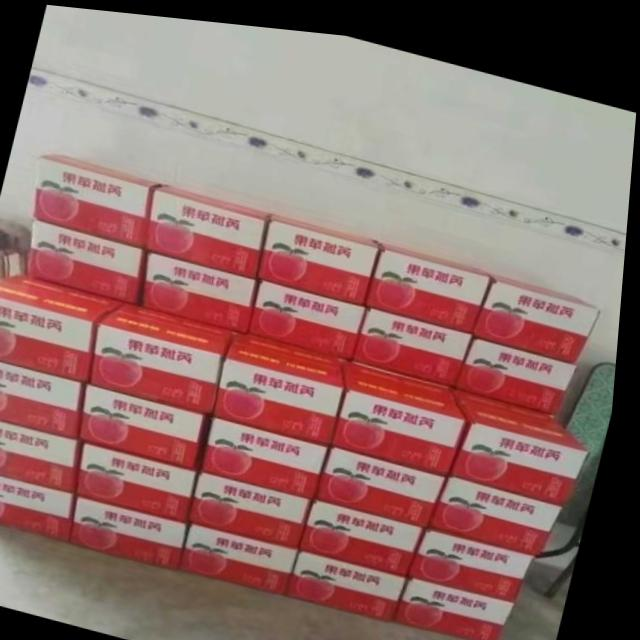box: (454, 392, 598, 495), (95, 308, 237, 410), (341, 360, 472, 465), (218, 338, 347, 438), (40, 154, 173, 248), (0, 278, 119, 379), (367, 232, 493, 327), (478, 259, 606, 350), (262, 206, 382, 299), (150, 182, 271, 274), (435, 463, 570, 544), (87, 381, 216, 464), (321, 439, 454, 517), (208, 411, 335, 492), (31, 217, 150, 301), (83, 438, 207, 518), (143, 246, 262, 327), (457, 326, 583, 402), (307, 492, 434, 567), (197, 466, 321, 541), (357, 299, 477, 375), (416, 519, 542, 590), (254, 274, 368, 352), (293, 542, 417, 613), (81, 492, 200, 565), (188, 518, 306, 590), (401, 567, 524, 634), (0, 357, 90, 438), (0, 420, 87, 492), (0, 473, 83, 541), (119, 299, 241, 337), (457, 374, 569, 415), (3, 274, 135, 308), (348, 351, 461, 387), (238, 327, 349, 360)
